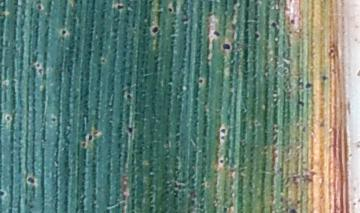tarspot: (150, 25, 160, 34), (222, 42, 231, 51), (26, 176, 36, 184), (125, 126, 134, 134), (212, 29, 220, 38), (253, 32, 260, 41), (305, 82, 313, 89), (297, 100, 305, 107), (86, 134, 93, 141), (92, 130, 99, 137), (116, 4, 124, 10), (321, 75, 329, 81), (328, 48, 334, 56), (355, 140, 360, 149), (60, 29, 67, 35), (125, 93, 132, 99), (270, 21, 276, 28), (289, 19, 296, 25), (353, 36, 359, 43), (295, 198, 301, 205), (289, 208, 297, 213), (5, 115, 11, 121), (51, 117, 57, 123), (37, 68, 43, 74), (220, 128, 226, 134), (222, 207, 228, 213), (347, 152, 353, 158), (36, 4, 43, 9), (356, 69, 360, 77), (81, 141, 86, 147), (167, 7, 172, 13), (198, 78, 204, 83), (35, 63, 41, 68), (218, 159, 224, 164), (351, 201, 356, 207), (352, 186, 357, 192), (354, 23, 359, 29), (100, 58, 105, 63), (1, 190, 5, 196), (357, 197, 360, 204)
